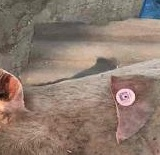text: (109, 81, 144, 115)
